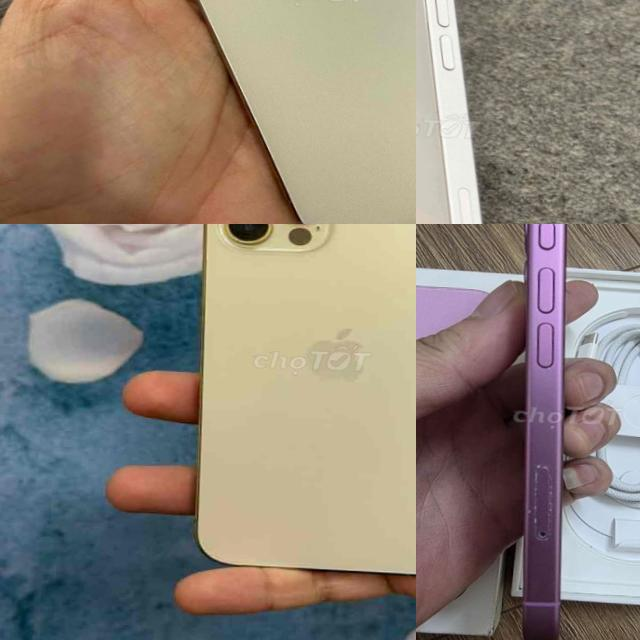scratch: (508, 454, 582, 542)
